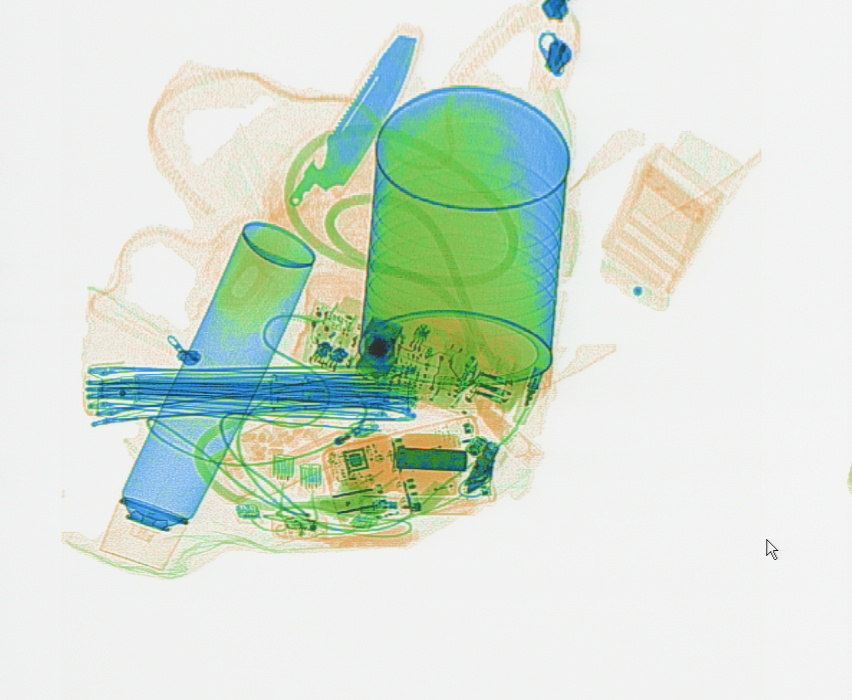knife: (218, 35, 416, 309)
pressure: (97, 221, 314, 569)
